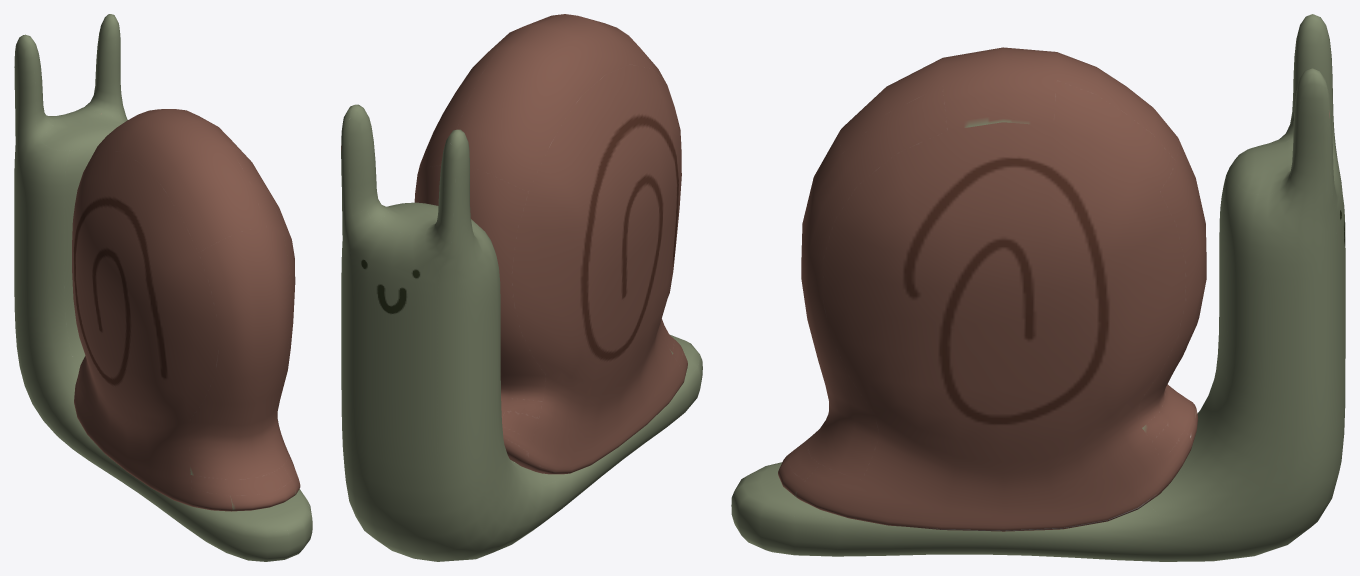
The model's file is Snail.fbx.
The picture shows the model from 3 angles, left to right: view 1: azimuth 30°, elevation 25°; view 2: azimuth 150°, elevation 25°; view 3: azimuth 270°, elevation 25°; orthographic projection. The views are drawn at different scales.
Parts seen in each view (by area): view 1: Cube; view 2: Cube; view 3: Cube.
Part boxes in pixels (left/top/right/bottom): Cube: left=14, top=14, right=312, bottom=561; Cube: left=341, top=14, right=702, bottom=561; Cube: left=731, top=14, right=1345, bottom=561.
Size of the model in its own units: 156 by 370 by 409.
